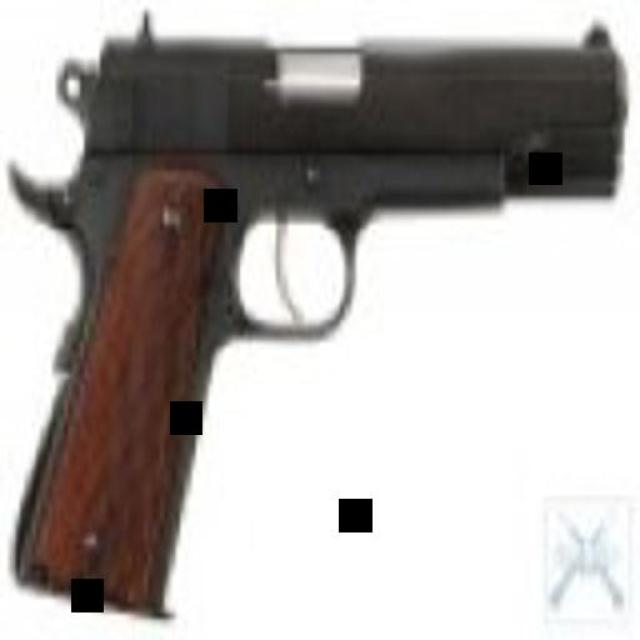gun: (6, 14, 622, 616)
